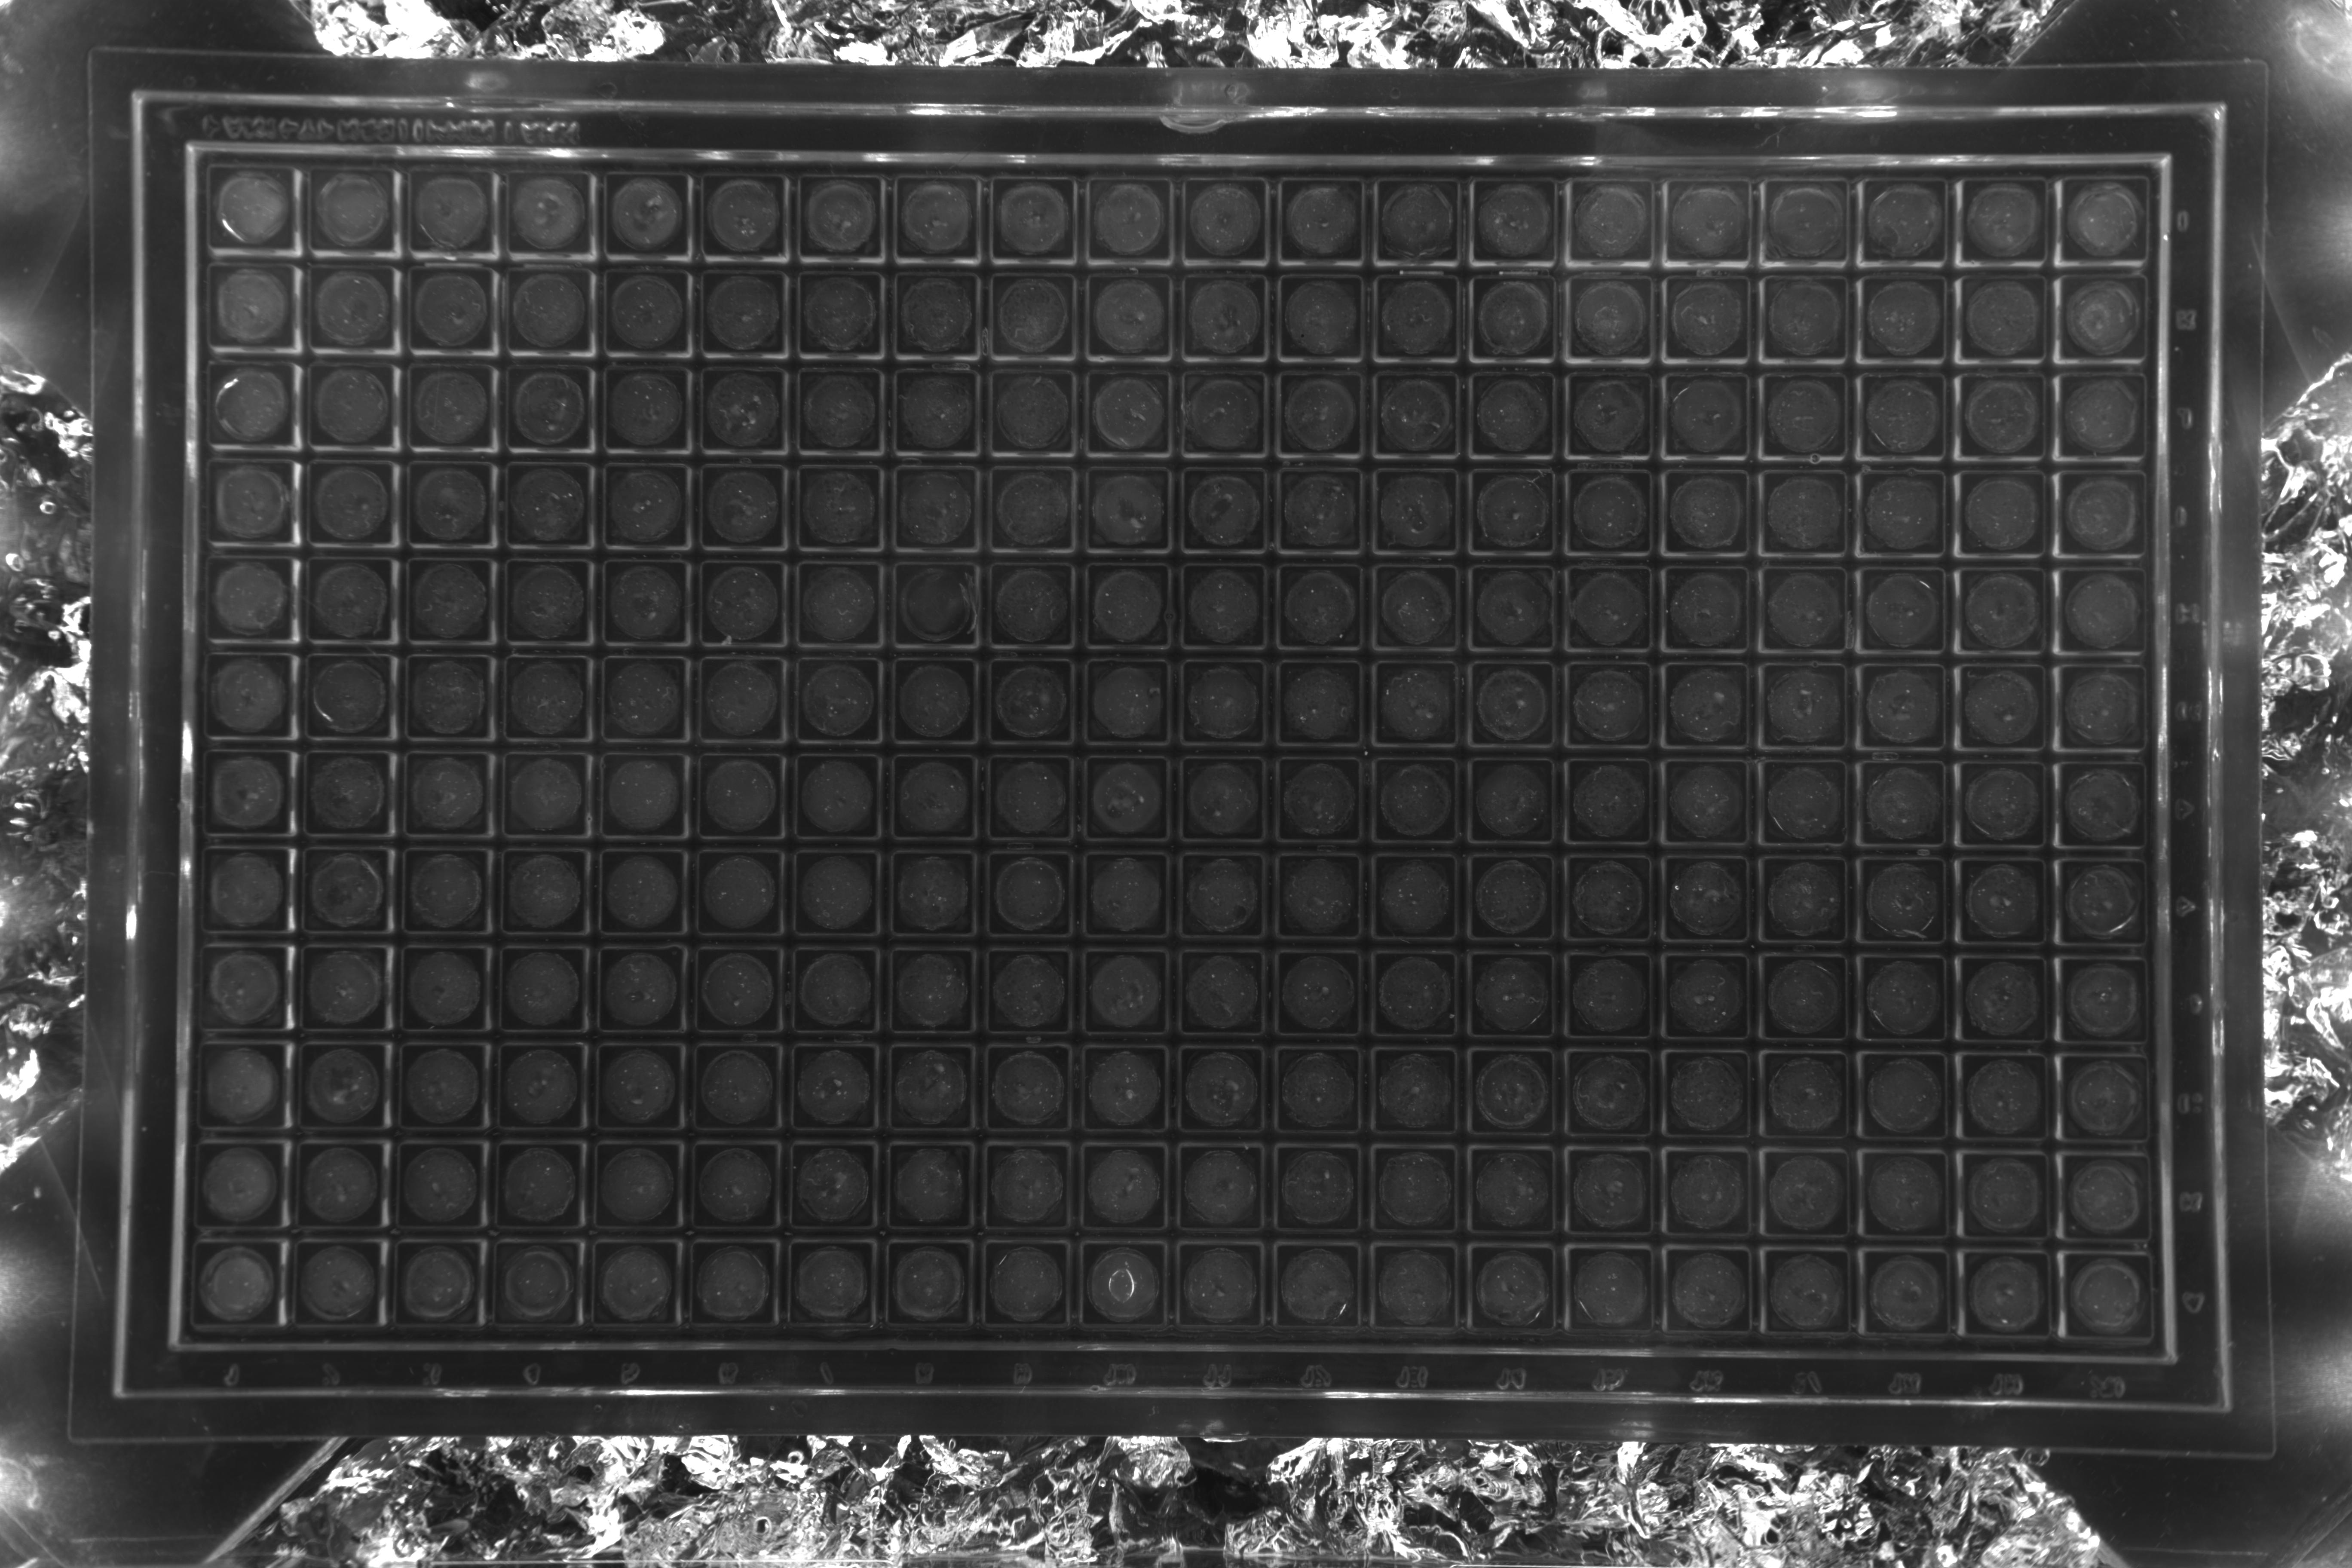WM_well: (497, 556, 586, 644), (497, 653, 586, 740), (688, 1043, 777, 1130), (789, 268, 878, 355), (885, 850, 975, 938), (203, 747, 290, 835), (205, 360, 292, 448), (303, 457, 390, 544), (401, 360, 488, 448), (497, 749, 584, 836), (593, 847, 681, 934), (885, 947, 973, 1034), (887, 558, 975, 646), (983, 850, 1071, 938), (1274, 850, 1361, 938), (1368, 464, 1456, 551), (1372, 1242, 1459, 1330), (1468, 1144, 1556, 1232), (1563, 560, 1650, 647), (1564, 754, 1652, 842), (1564, 850, 1652, 938), (1759, 464, 1846, 551), (1960, 854, 2047, 941), (2063, 1253, 2151, 1340)
